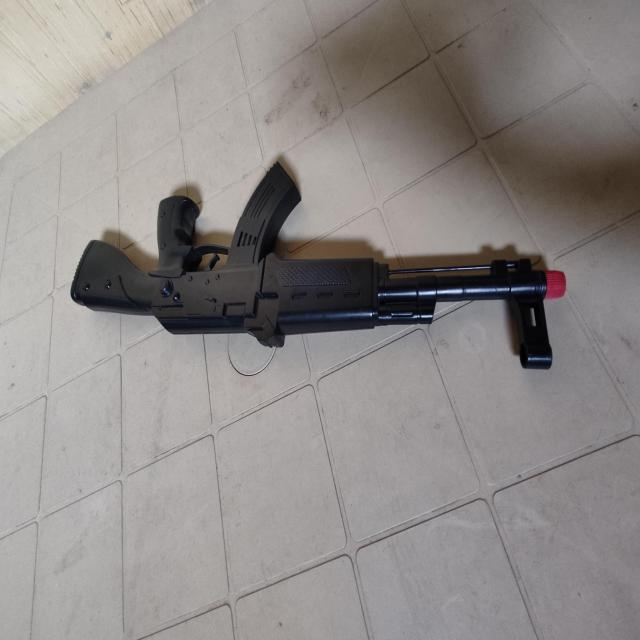rifle: (62, 154, 581, 371)
